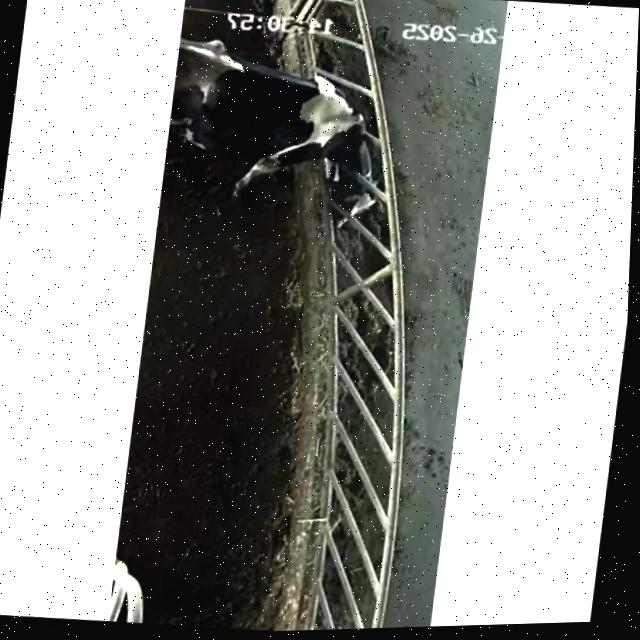eat: (248, 81, 444, 242)
